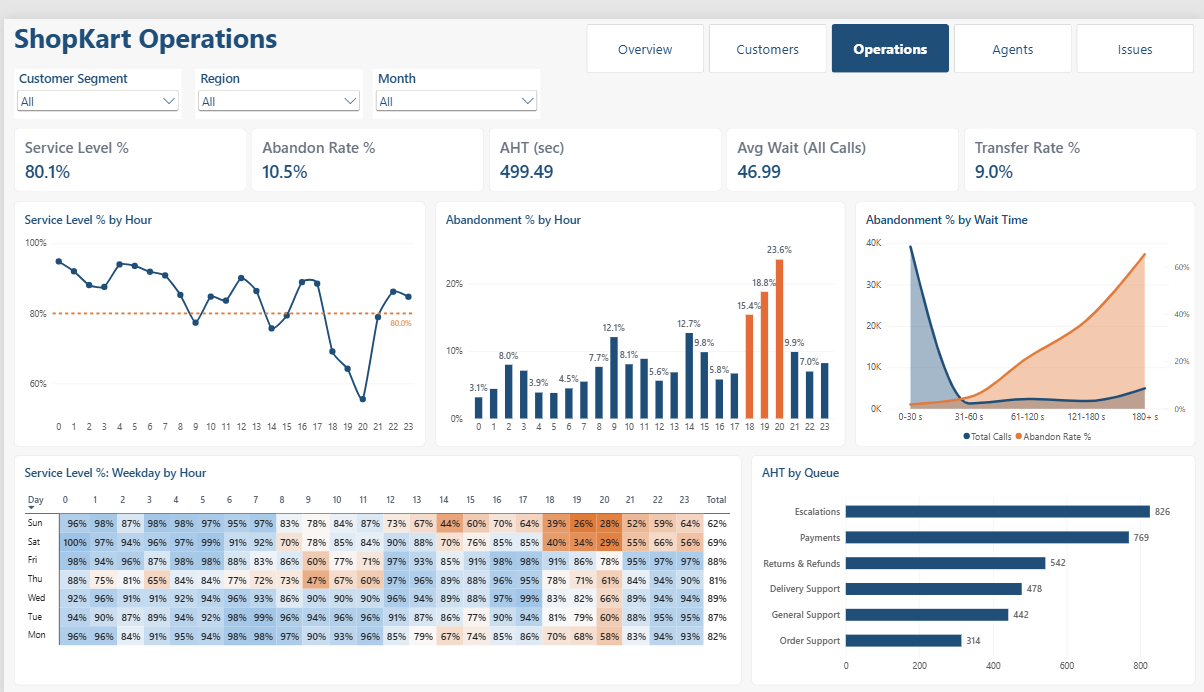

This screenshot's page, from the dashboard's own definition file:
{"tool":"powerbi","page":{"name":"Operations","canvas":[1920,1080],"ordinal":2},"visuals":[{"type":"textbox","box":[16,0,452,78],"z":0,"group":"g1"},{"type":"slicer","fields":{"Values":["DimDate.Month"]},"box":[590,80.4,268,80],"z":0},{"type":"slicer","fields":{"Values":["DimCustomer.CustomerSegment"]},"box":[16,80.4,268,80],"z":1000},{"type":"slicer","fields":{"Values":["DimLocation.Region"]},"box":[306,80.4,268,80],"z":2000},{"type":"pageNavigator","box":[932,8,974,78],"z":3000},{"type":"group","id":"g1","title":"Group 1","box":[16,0,452,78],"z":4000},{"type":"cardVisual","fields":{"Data":["allMeasures.Service Level %","allMeasures.Abandon Rate %","allMeasures.AHT (sec)","allMeasures.Avg Wait (All Calls)","allMeasures.Transfer Rate %"]},"box":[16,174,1892,102],"z":5000},{"type":"lineChart","title":"Service Level % by Hour","fields":{"Category":["FactCalls.CallHour"],"Y":["allMeasures.Service Level %"]},"box":[16,292,658,392],"z":6000},{"type":"clusteredColumnChart","title":"Abandonment % by Hour","fields":{"Category":["FactCalls.CallHour"],"Y":["allMeasures.Abandon Rate %"]},"box":[690,292,656,392],"z":7000},{"type":"pivotTable","title":"Service Level %: Weekday by Hour","fields":{"Columns":["FactCalls.CallHour"],"Rows":["DimDate.Enter DayShort"],"Values":["allMeasures.Service Level %"]},"box":[16,698,1164,368],"z":8000},{"type":"clusteredBarChart","title":"AHT by Queue","fields":{"Category":["FactCalls.QueueName"],"Y":["allMeasures.AHT (sec)"]},"box":[1196,698,710,368],"z":9000},{"type":"areaChart","title":"Abandonment % by Wait Time","fields":{"Category":["FactCalls.WaitBucket"],"Y":["allMeasures.Total Calls"],"Y2":["allMeasures.Abandon Rate %"]},"box":[1362,292,544,392],"z":10000}]}

Visuals, with their boxes in screenshot pixels (x1, y1, x2, y2), scaled from the page's 1920x1080 canvas onto the 1204x692 screenshot:
textbox: [10,0,293,50]
slicer - DimDate.Month: [370,52,538,103]
slicer - DimCustomer.CustomerSegment: [10,52,178,103]
slicer - DimLocation.Region: [192,52,360,103]
pageNavigator: [584,5,1195,55]
"Group 1" group: [10,0,293,50]
cardVisual - allMeasures.Service Level % x allMeasures.Abandon Rate %: [10,111,1196,177]
"Service Level % by Hour" lineChart: [10,187,423,438]
"Abandonment % by Hour" clusteredColumnChart: [433,187,844,438]
"Service Level %: Weekday by Hour" pivotTable: [10,447,740,683]
"AHT by Queue" clusteredBarChart: [750,447,1195,683]
"Abandonment % by Wait Time" areaChart: [854,187,1195,438]
